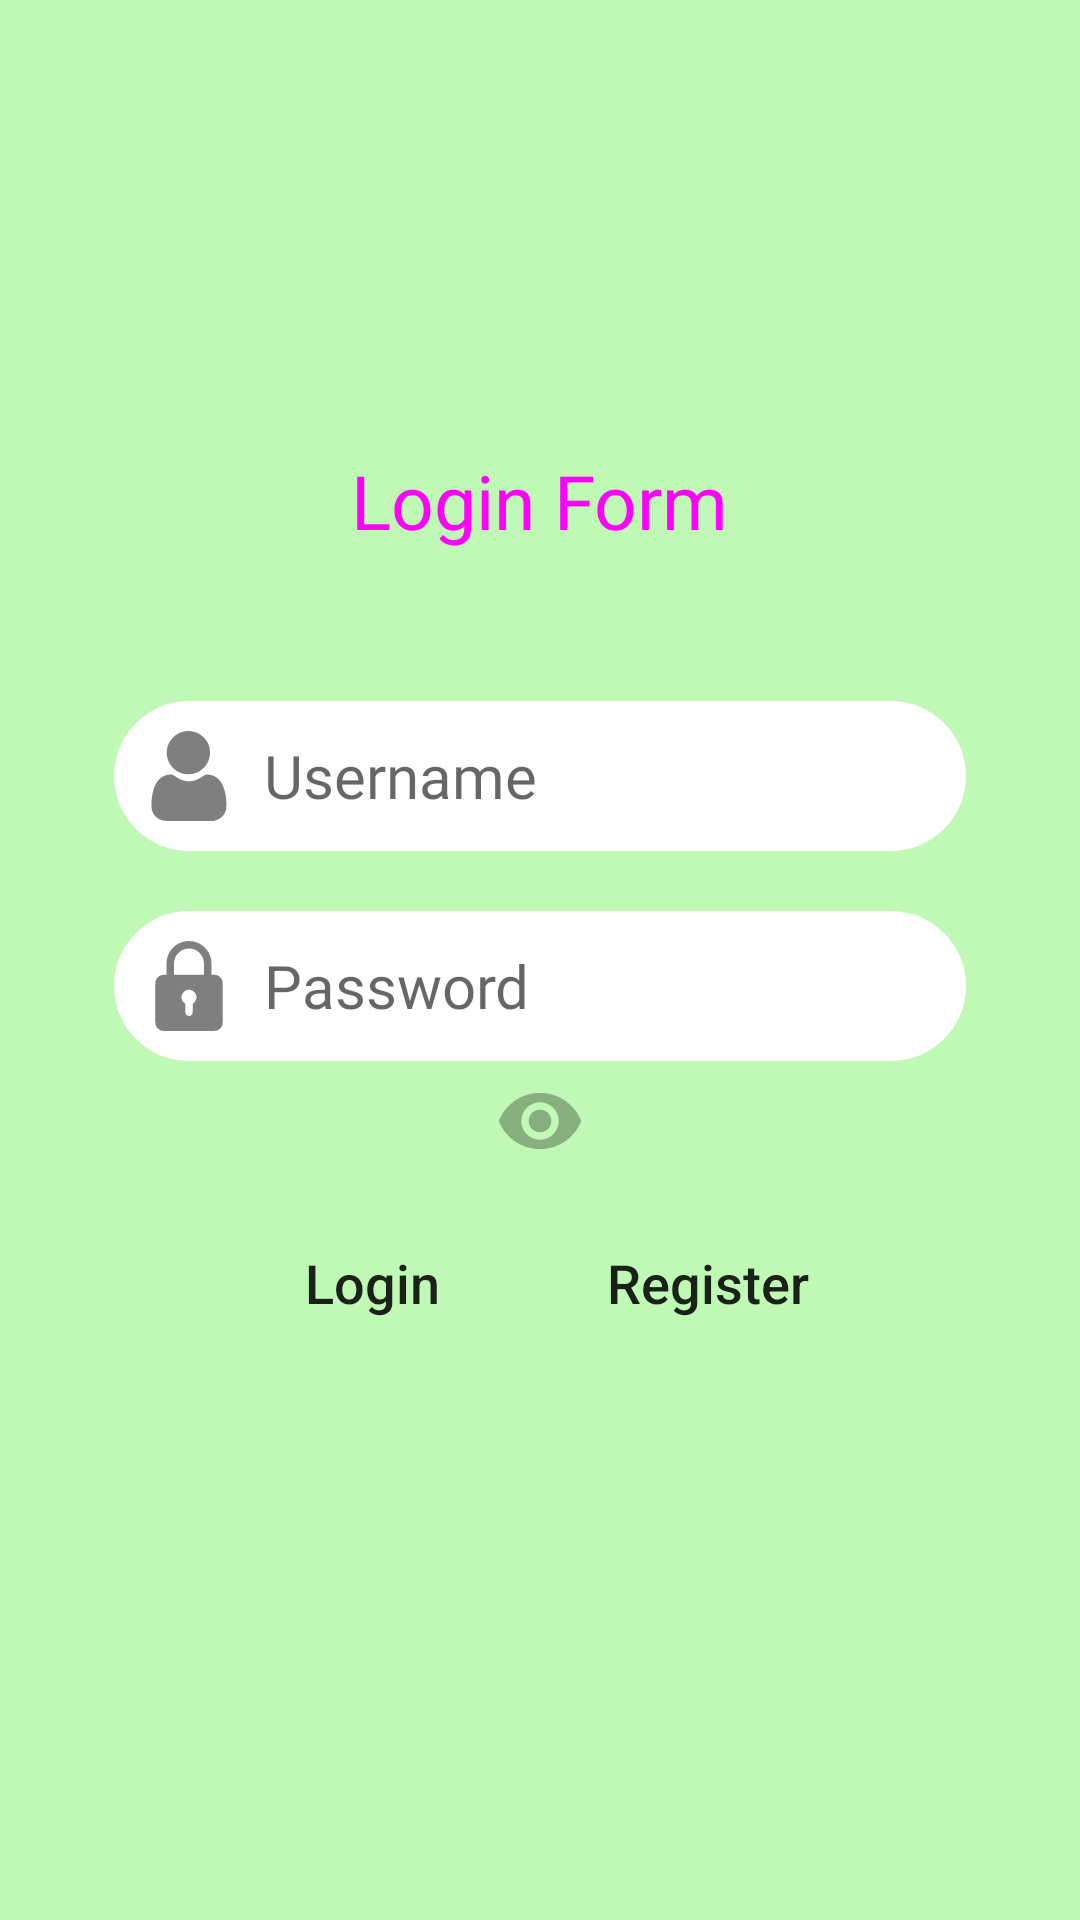

Icons on this 1080×1920 Android screen, each with the point to tap as (x=x, y=y):
eye: (x=540, y=1121)
